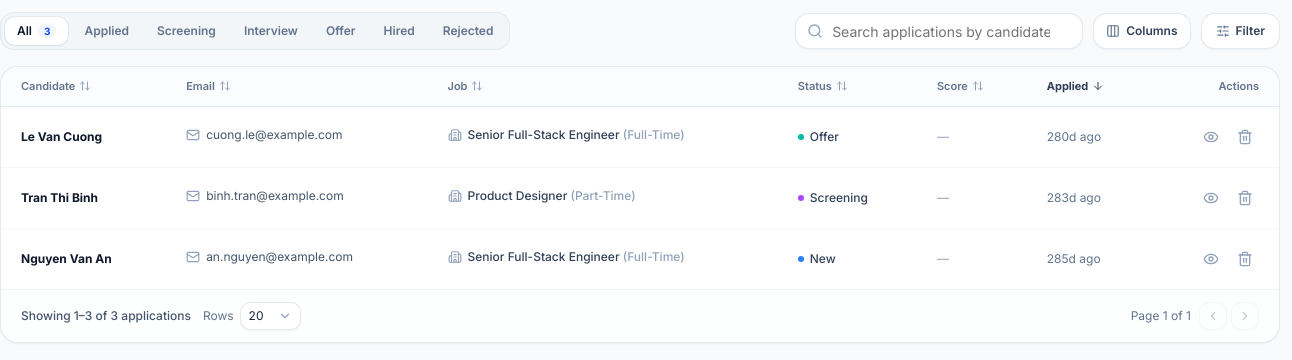
Test case: ApplicationsDataTable Component › 4. Filtering & Search › toggles stage filter in SegmentedTabs
Step 1. Click the 1st button "Applied" → coordinates (107, 31), box [72, 17, 141, 45]
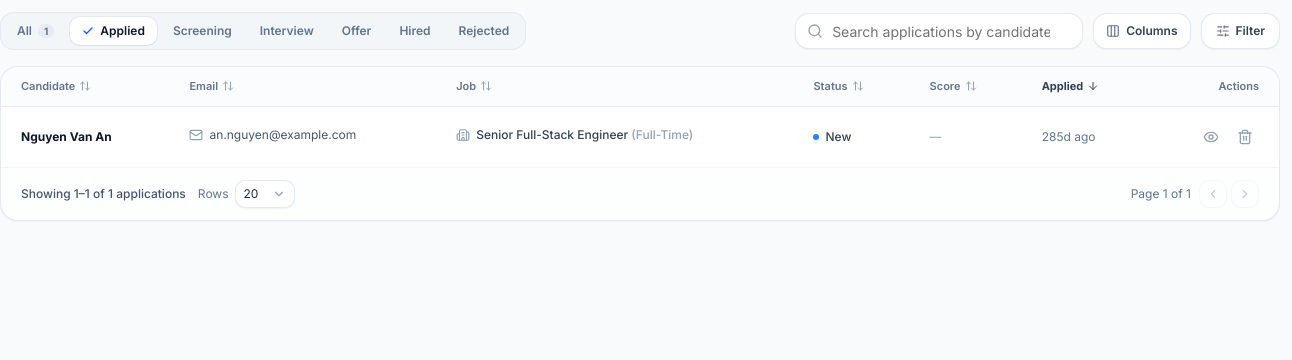
Expected: the button "Nguyen Van An" is shown, [21, 129, 112, 145]
Now the button "Tran Thi Binh" is gone
Now the button "Le Van Cuong" is gone
